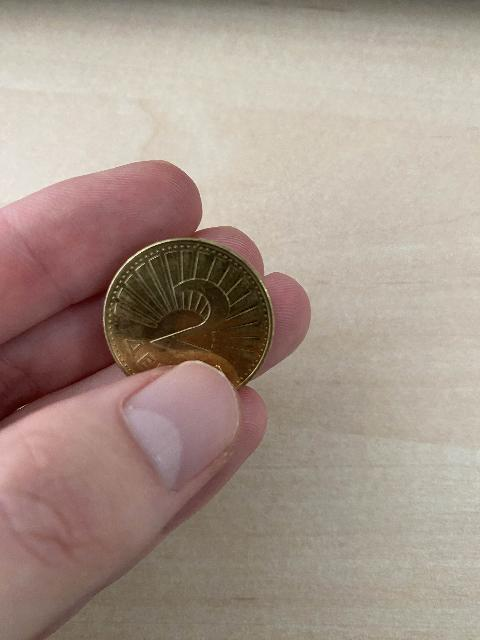2_coin: (104, 238, 273, 387)
